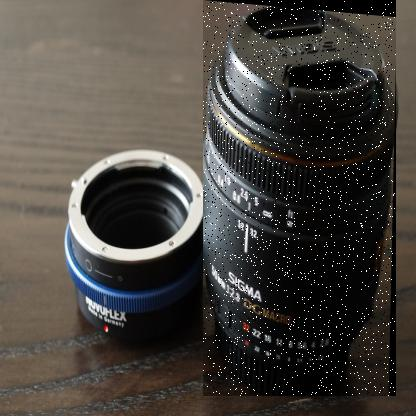Camera: (204, 1, 398, 398)
